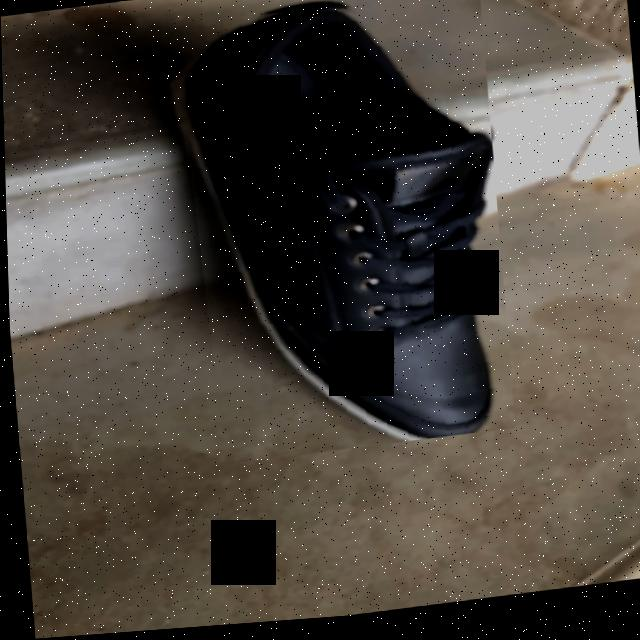shoe: (182, 13, 492, 448)
